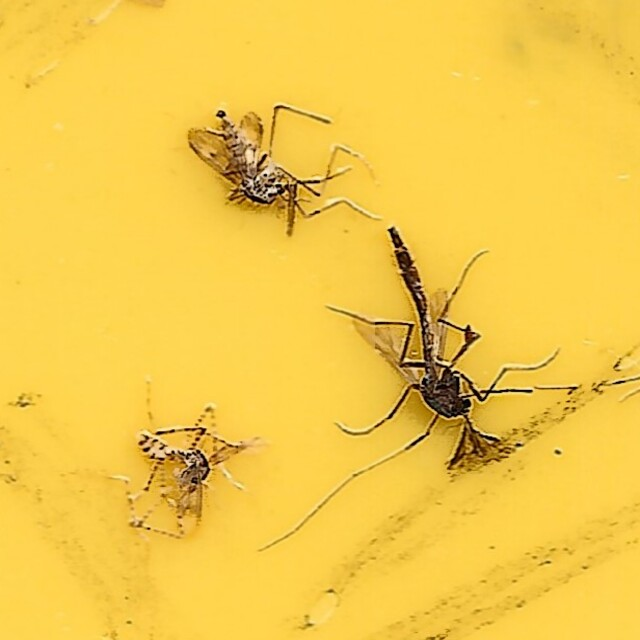Nematocera: (325, 219, 536, 449), (186, 101, 377, 239), (104, 414, 255, 539)
